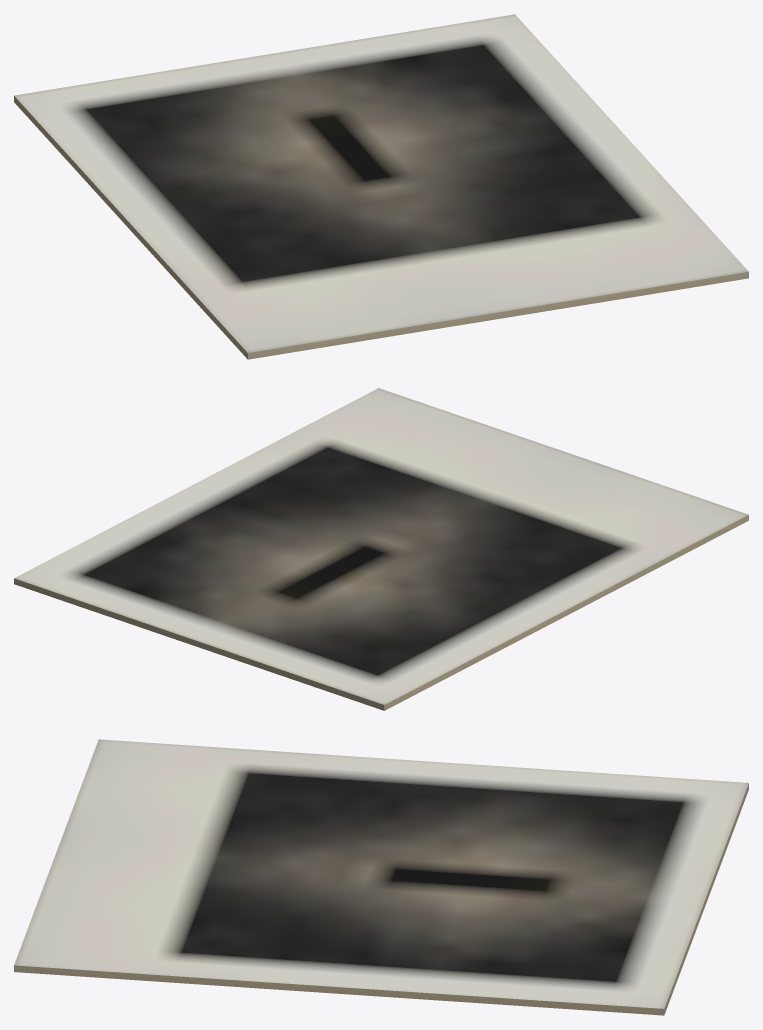
The model's file is instant_photo.fbx.
3 renders of one model, top to bottom at view 1: azimuth 30°, elevation 25°; view 2: azimuth 150°, elevation 25°; view 3: azimuth 270°, elevation 25°, orthographic. The views are drawn at different scales.
Parts seen in each view (by area): view 1: instant_photo; view 2: instant_photo; view 3: instant_photo.
Part boxes in pixels (x1=…): instant_photo: x1=14, y1=14, x2=748, y2=359; instant_photo: x1=14, y1=388, x2=748, y2=710; instant_photo: x1=14, y1=739, x2=748, y2=1015.
Bounding box in the file's own units: 0.1037 × 0.0012 × 0.1194.
Materials: 1 (1 with a texture image).
